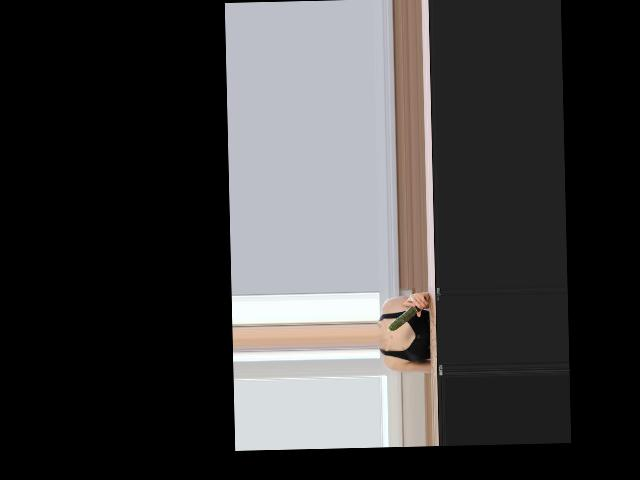cucumber: (387, 296, 427, 331)
